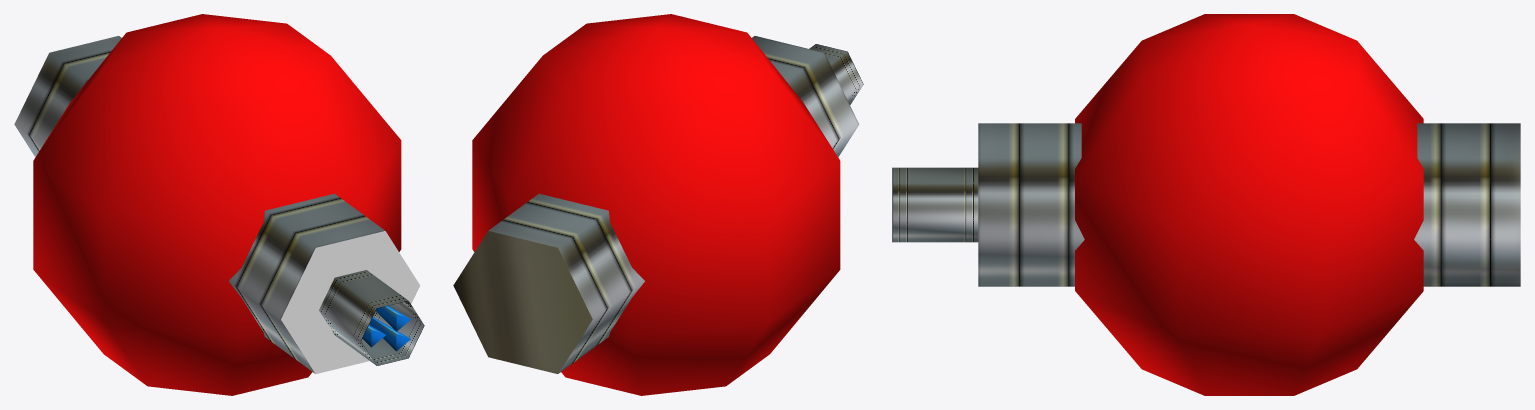
File: acs38_static.obj
3 renders of one model, left to right at view 1: azimuth 30°, elevation 25°; view 2: azimuth 150°, elevation 25°; view 3: azimuth 270°, elevation 25°, orthographic.
Parts seen in each view (by area): view 1: frm-reactor_sphere1, frm-main_core, frm-core_tip, frm-pin2, frm-pin1; view 2: frm-reactor_sphere1, frm-main_core, frm-core_tip; view 3: frm-reactor_sphere1, frm-main_core, frm-core_tip.
Boxes of the visible parts, x1,y1,x2,y2 form: frm-reactor_sphere1: [33, 14, 401, 395]; frm-main_core: [14, 36, 420, 373]; frm-core_tip: [319, 270, 424, 365]; frm-pin2: [369, 317, 410, 351]; frm-pin1: [376, 306, 411, 331]; frm-reactor_sphere1: [472, 14, 840, 395]; frm-main_core: [453, 36, 859, 373]; frm-core_tip: [809, 44, 863, 104]; frm-reactor_sphere1: [1075, 14, 1423, 395]; frm-main_core: [978, 123, 1520, 286]; frm-core_tip: [892, 167, 978, 242].
Size of the model in its own units: 0.1984 by 0.2258 by 0.3576.
5 materials, 3 textured.
